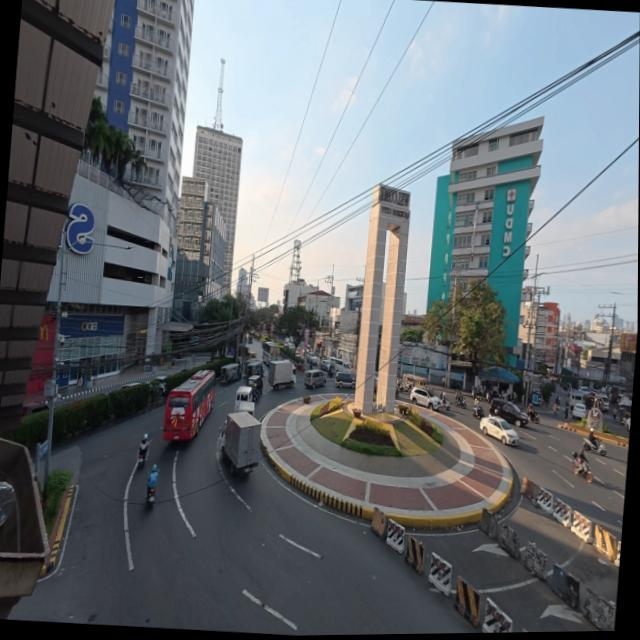Jeepneys: (400, 374, 427, 392), (219, 363, 240, 383), (244, 360, 262, 378), (246, 351, 256, 360)
bus: (163, 370, 214, 440), (261, 341, 278, 365)
car: (479, 417, 518, 445), (489, 399, 528, 426), (409, 387, 440, 410), (21, 401, 47, 416), (334, 372, 355, 389), (118, 379, 142, 392), (246, 375, 262, 394), (151, 376, 165, 393), (571, 403, 586, 418), (319, 359, 330, 371), (622, 414, 630, 430), (305, 353, 316, 364), (287, 341, 296, 352), (373, 374, 377, 390), (247, 336, 253, 344)
motorcycle: (572, 452, 592, 482), (583, 437, 606, 456), (145, 471, 156, 506), (137, 441, 149, 466), (527, 409, 539, 424), (145, 487, 154, 506), (470, 386, 483, 399), (454, 395, 466, 409), (473, 405, 484, 419), (251, 388, 260, 402), (440, 397, 449, 410), (327, 366, 333, 378)
trucks: (220, 411, 260, 474), (267, 360, 295, 389)
vans: (234, 386, 251, 411), (329, 357, 350, 375), (304, 370, 325, 387), (567, 389, 582, 410), (594, 394, 608, 411), (238, 401, 253, 415)
